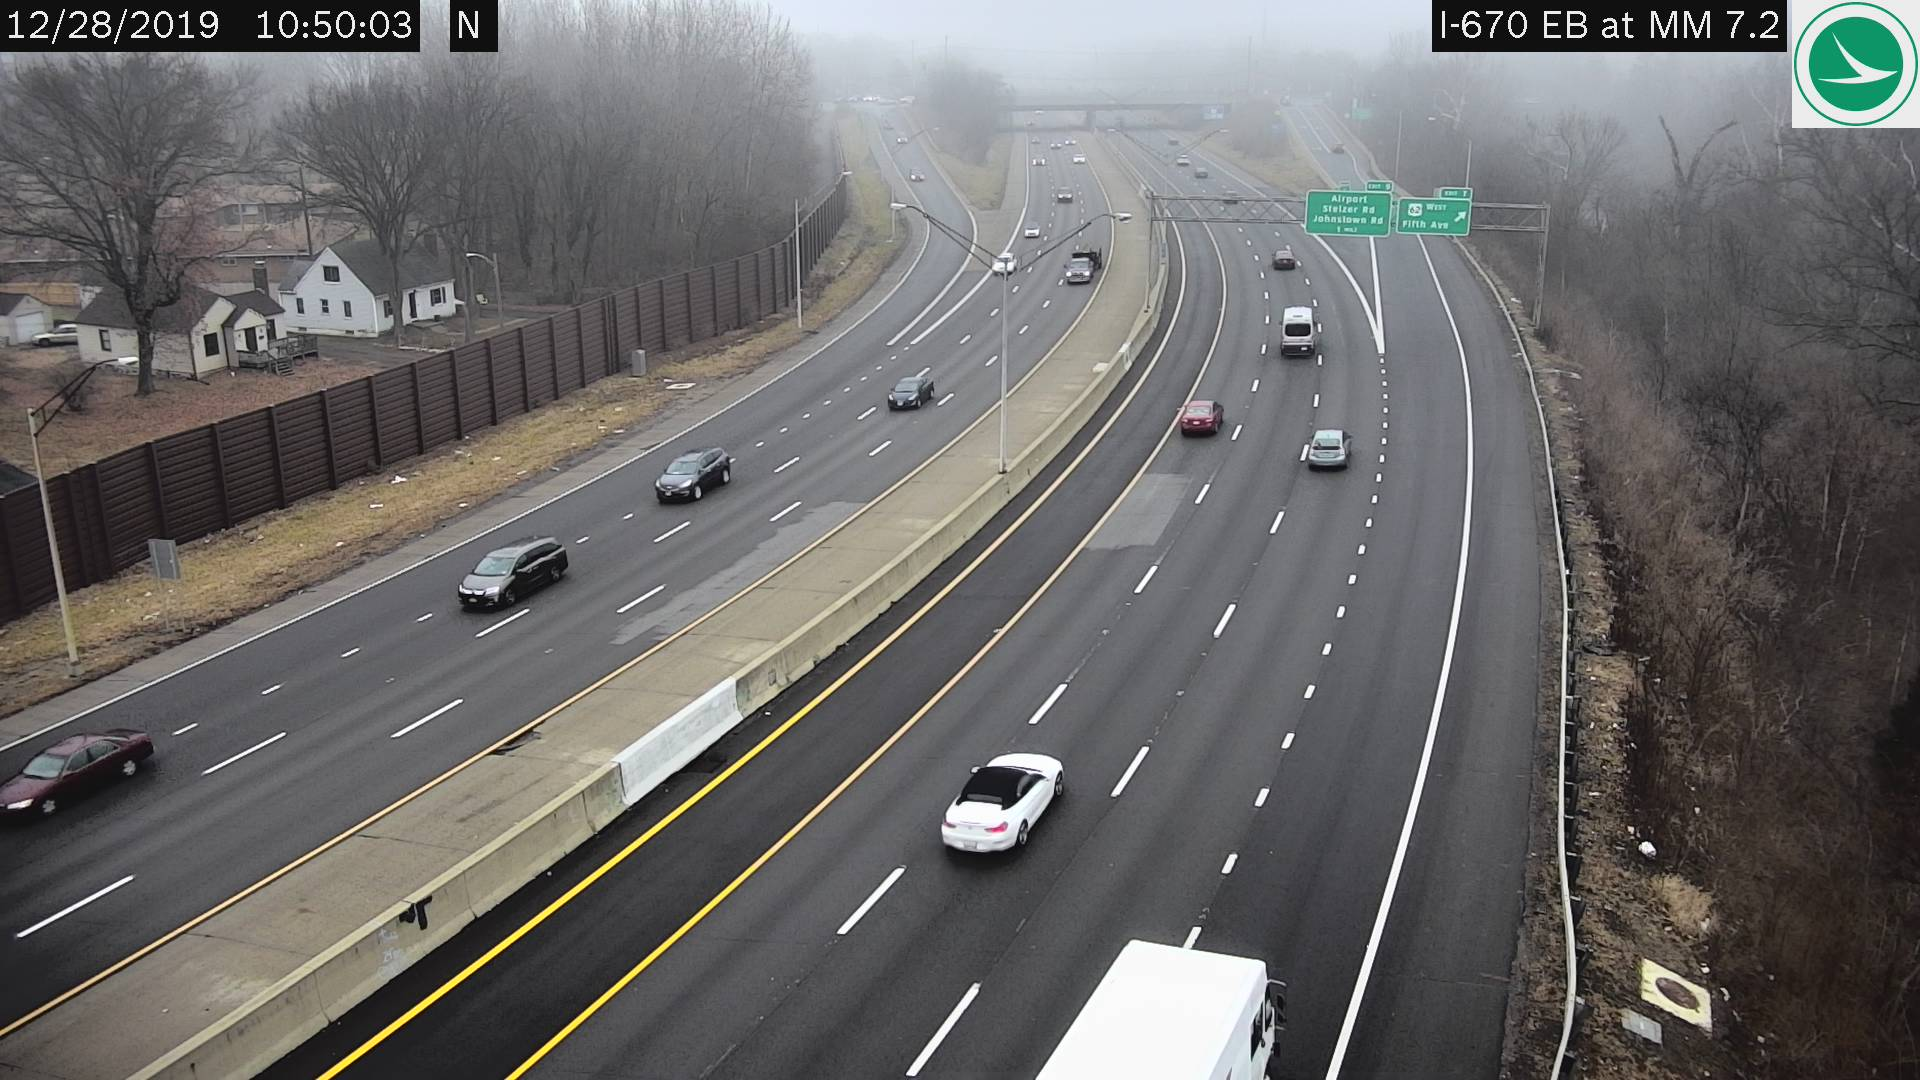car: (1030, 936, 1282, 1076), (7, 732, 150, 816), (945, 752, 1062, 856), (458, 535, 566, 608), (654, 448, 731, 504), (1278, 305, 1317, 356), (1305, 429, 1354, 464), (1182, 400, 1222, 436), (890, 376, 938, 407), (1062, 245, 1101, 281), (1270, 248, 1294, 268), (994, 251, 1014, 272), (1055, 185, 1073, 200), (1023, 222, 1038, 236)
